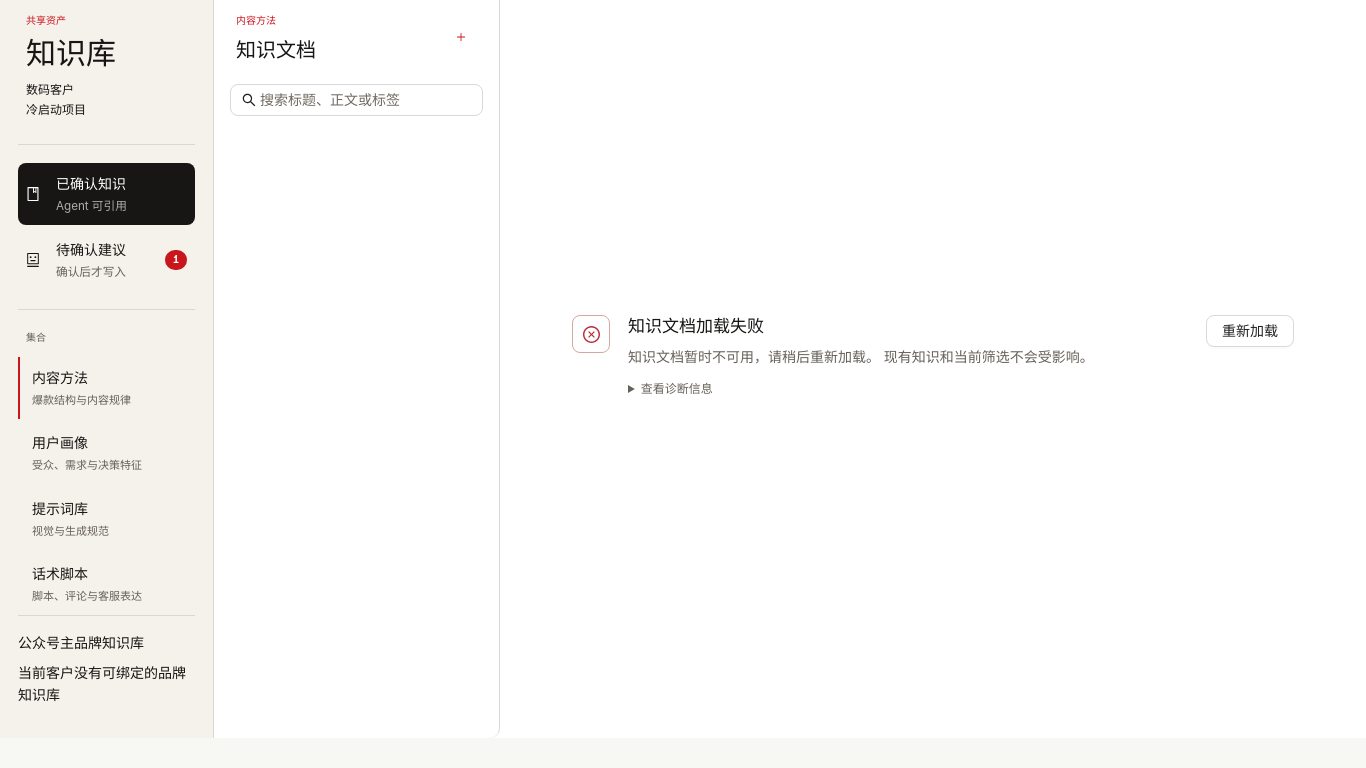
Test: Knowledge › does not present a failed knowledge request as an empty collection
This screenshot has width=1366, height=768.
Expected: the message "知识文档加载失败 知识文档暂时不可用，请稍后重新加载。 现有知识和当前筛选不会受影响。 查看诊断信息 重新加载" is shown, [572, 315, 1294, 396]
Click the button "重新加载": (1250, 331) [1206, 315, 1294, 347]
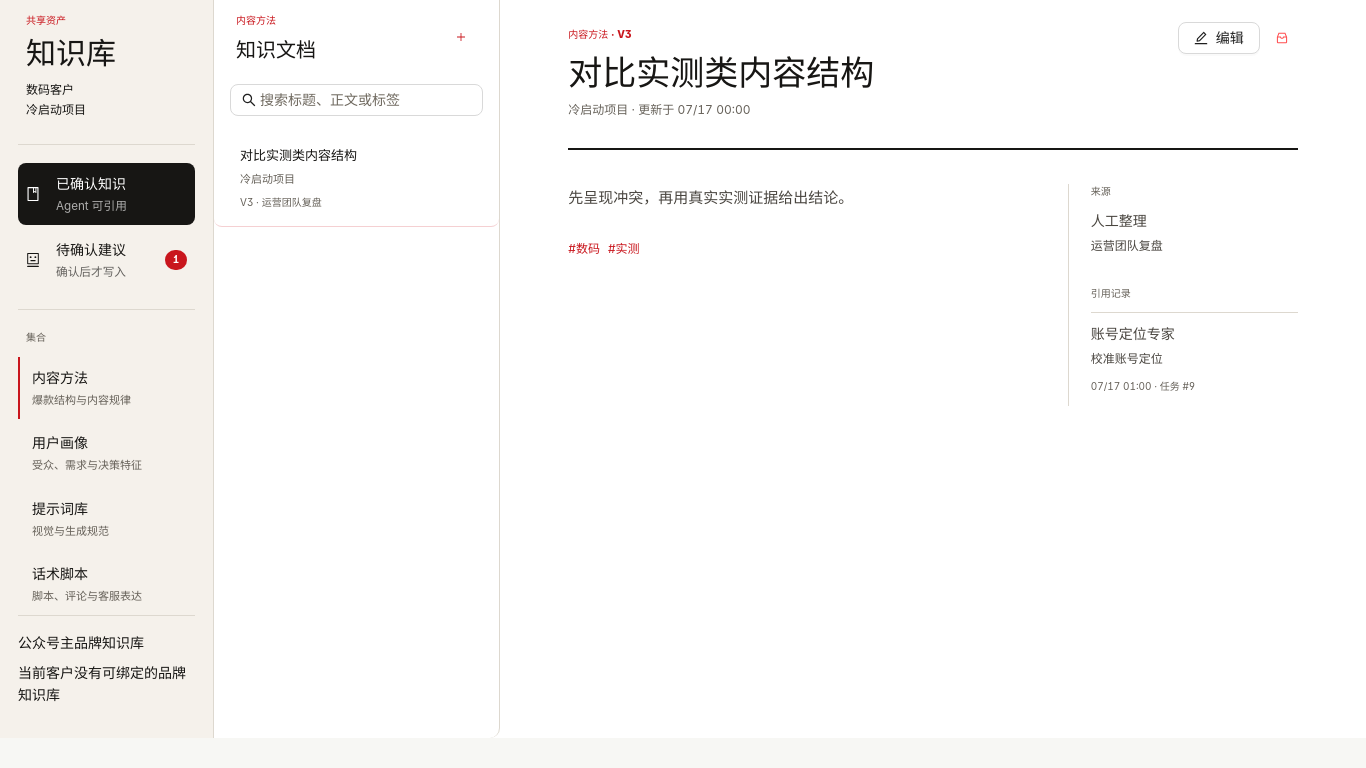
Now the heading "对比实测类内容结构" is shown, box [568, 53, 874, 93]
